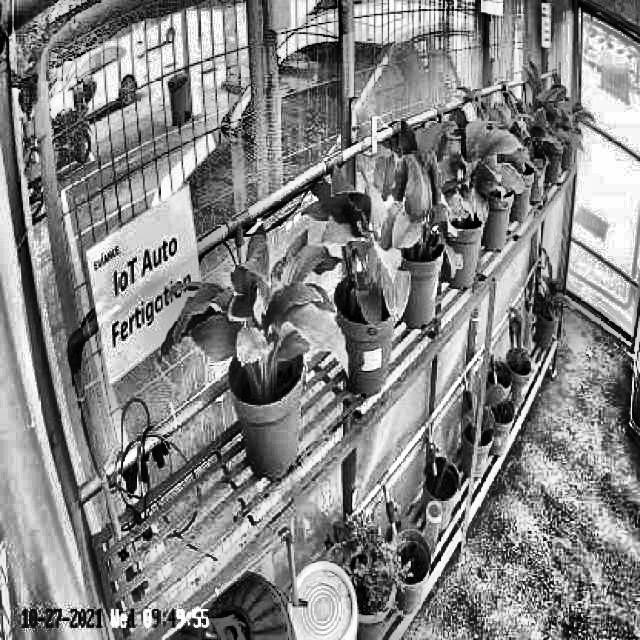plants: (158, 223, 350, 383), (306, 165, 412, 333), (370, 116, 464, 282), (416, 108, 526, 226)
